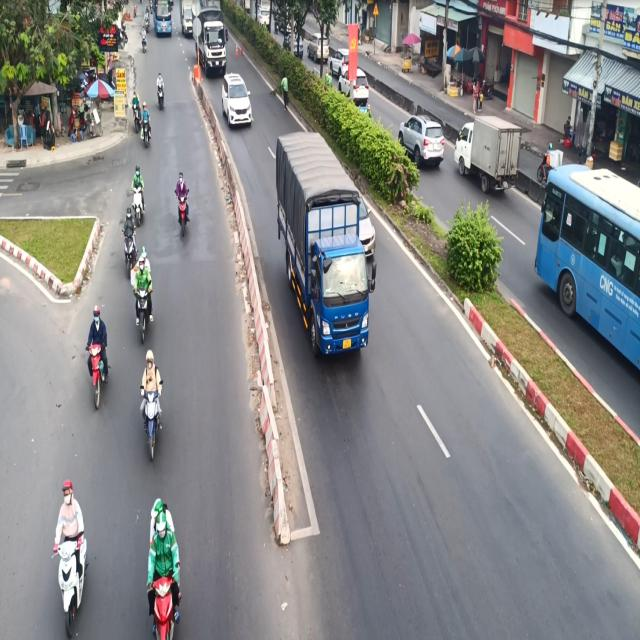car: (222, 70, 252, 139)
motor: (49, 471, 93, 638), (142, 486, 183, 640), (139, 343, 165, 460), (130, 245, 155, 339), (86, 294, 105, 416), (174, 164, 194, 240), (121, 210, 137, 274)
truck: (269, 128, 377, 357)
